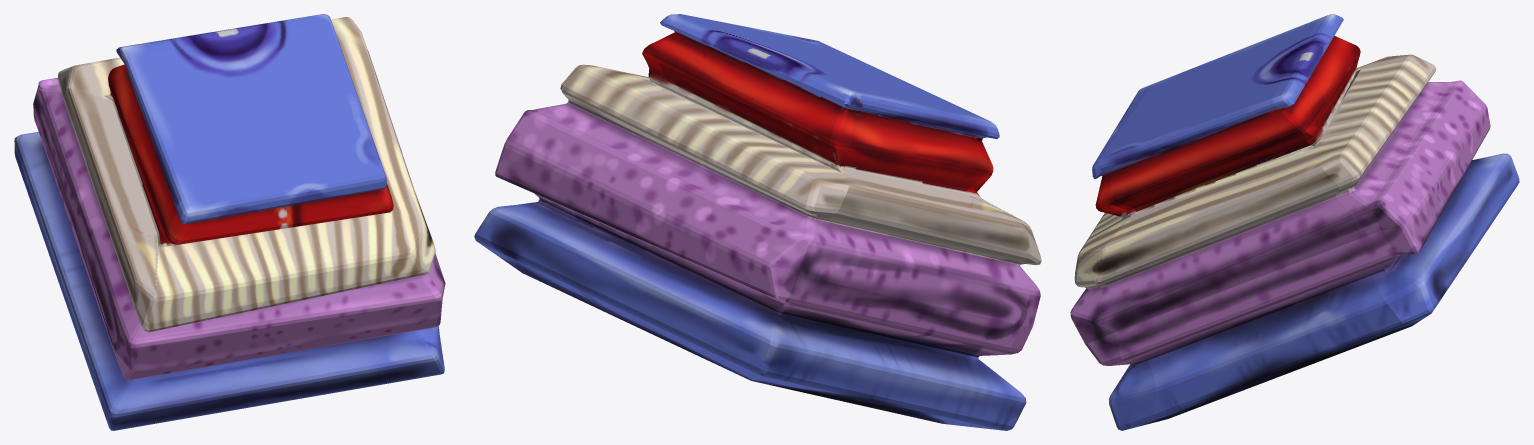
The model's file is pranium.fbx.
3 views of the same model, side by side, from view 1: azimuth 30°, elevation 25°; view 2: azimuth 150°, elevation 25°; view 3: azimuth 270°, elevation 25° (orthographic). The views are drawn at different scales.
Parts seen in each view (by area): view 1: Cube; view 2: Cube; view 3: Cube.
Part boxes in pixels (x1,y1,x2,y2): Cube: [14, 14, 445, 430]; Cube: [474, 14, 1041, 430]; Cube: [1070, 14, 1519, 430].
Size of the model in its own units: 1.21 by 1.04 by 1.28.
